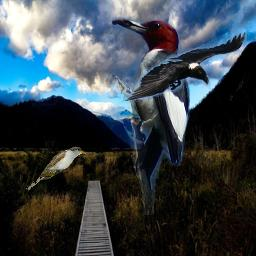Crow: (124, 30, 247, 101)
Cuckoo: (25, 146, 88, 191)
Woodpecker: (112, 17, 190, 215)
